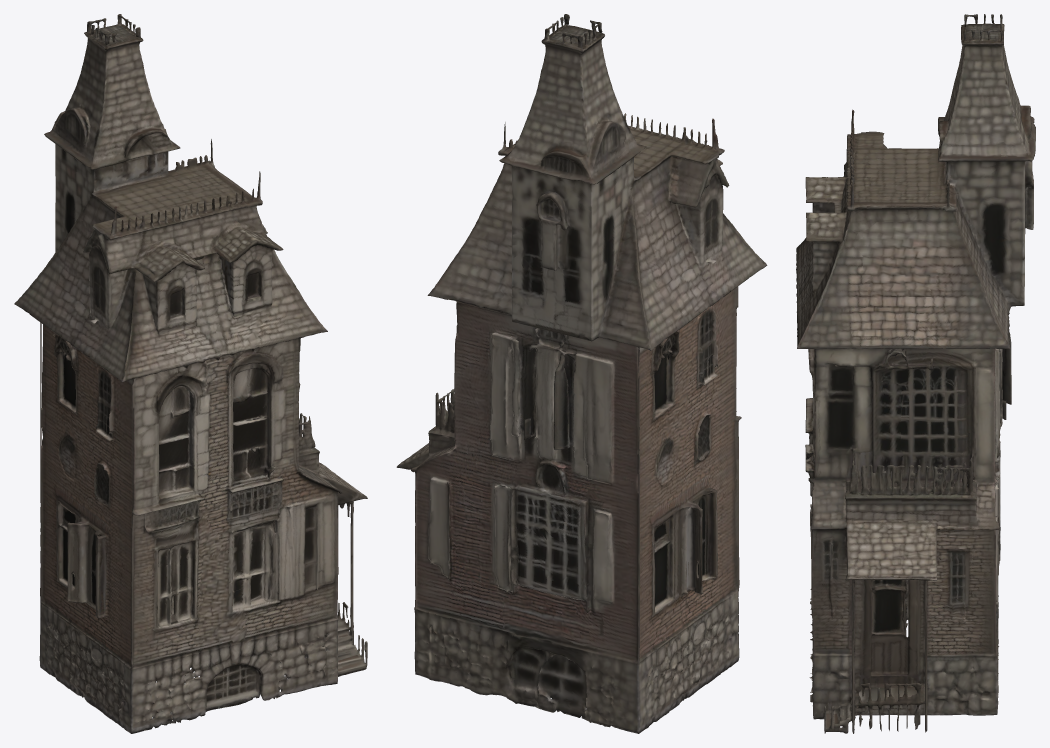
Rendered from Towers.glb.
3 views of the same model, side by side, from view 1: azimuth 30°, elevation 25°; view 2: azimuth 150°, elevation 25°; view 3: azimuth 270°, elevation 25° (orthographic). The views are drawn at different scales.
Bounding box in the file's own units: 0.9006 × 2 × 0.6902.
1 material, 1 textured.
